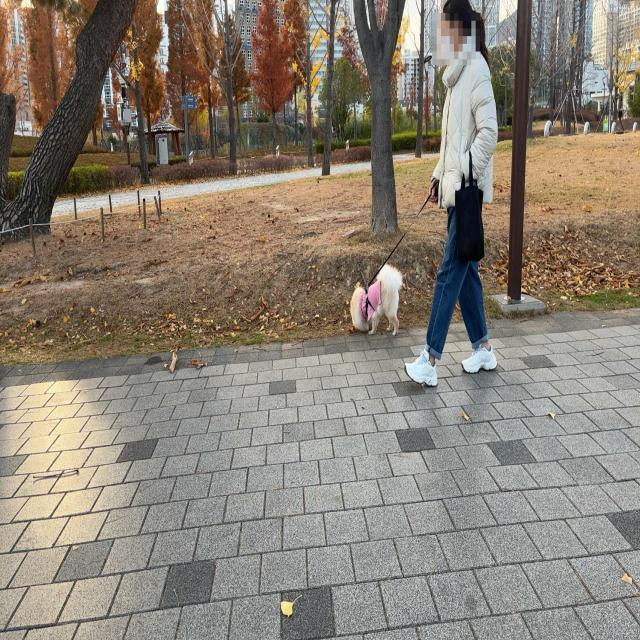Leashed_Dog: (350, 160, 454, 337)
